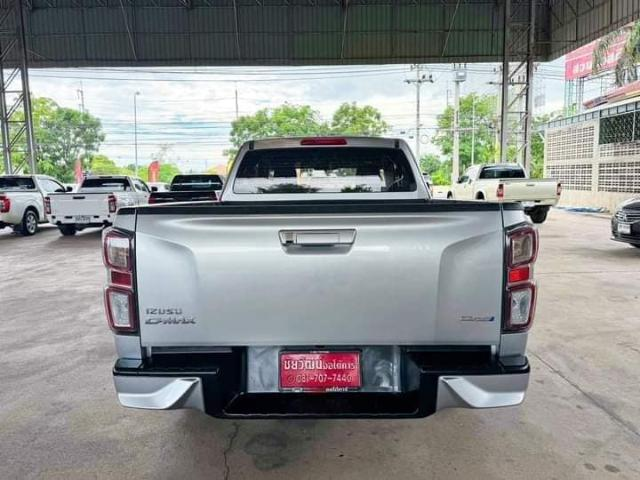pickup-truck: (100, 125, 557, 449)
